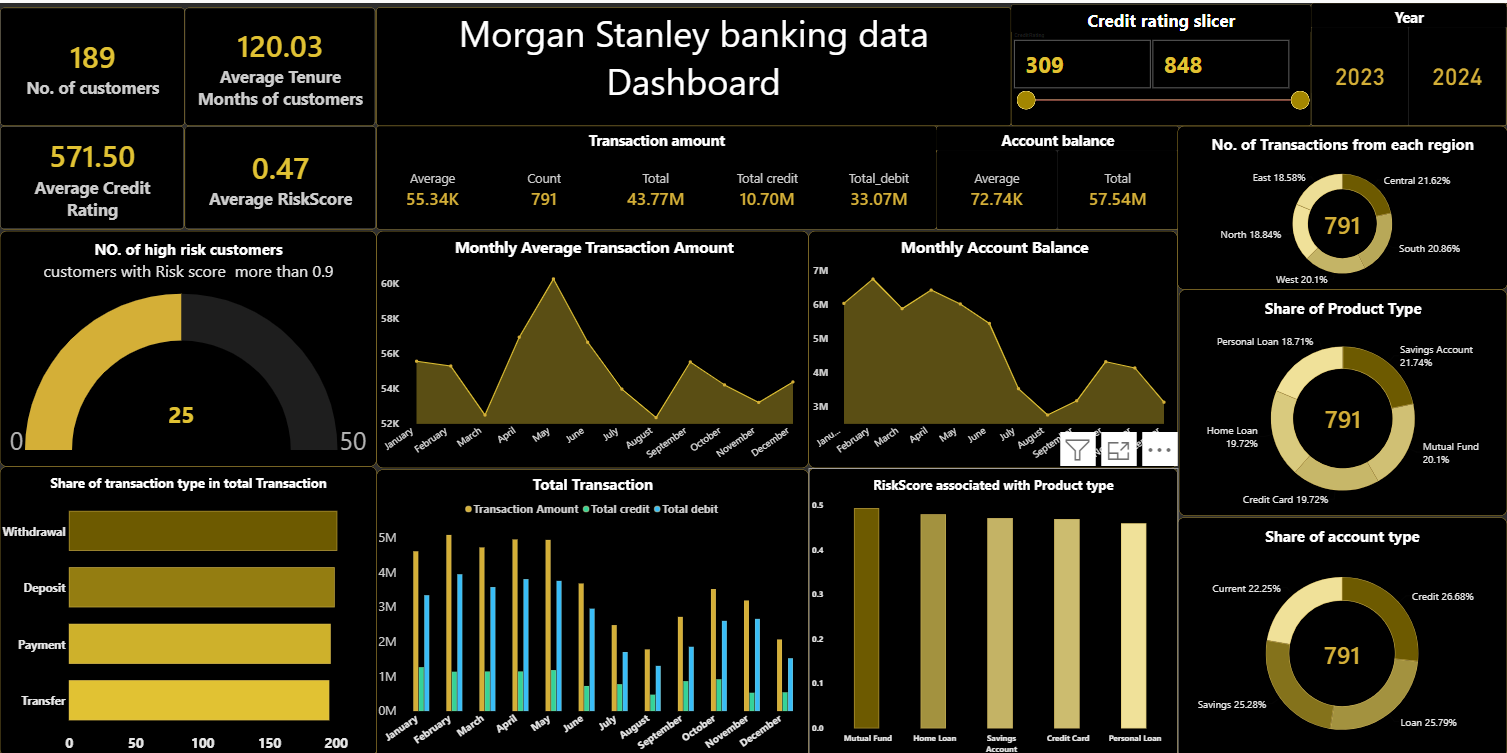

Layout of this report page (visuals, bound fields, positions):
{"tool":"powerbi","page":{"name":"Page 1","canvas":[4000,2000],"ordinal":0},"visuals":[{"type":"stackedAreaChart","title":"Monthly Average Transaction Amount","fields":{"Category":["morgan_stanely.TransactionDate.Variation.Date Hierarchy.Month","morgan_stanely.TransactionDate.Variation.Date Hierarchy.Day"],"Y":["Avg(morgan_stanely.TransactionAmount)"]},"box":[998.7,604.8,1145.9,628.7],"z":0},{"type":"cardVisual","title":"Transaction amount","fields":{"Data":["Avg(morgan_stanely.TransactionAmount)","CountNonNull(morgan_stanely.TransactionAmount)","Sum(morgan_stanely.TransactionAmount)","calculation dump.Total credit","calculation dump.Total_debit"]},"box":[998.7,326.2,1485.9,273.8],"z":1000},{"type":"cardVisual","title":"Account balance","fields":{"Data":["Avg(morgan_stanely.AccountBalance)","Sum(morgan_stanely.AccountBalance)"]},"box":[2484.6,326.2,644.8,275.6],"z":2000},{"type":"clusteredColumnChart","title":"Total Transaction ","fields":{"Category":["morgan_stanely.TransactionDate.Variation.Date Hierarchy.Month"],"Y":["Sum(morgan_stanely.TransactionAmount)","calculation dump.Total credit","calculation dump.Total_debit"]},"box":[998.7,1236.2,1146.9,767.9],"z":3000},{"type":"donutChart","title":"Share of account type","fields":{"Category":["morgan_stanely.AccountType"],"Y":["CountNonNull(morgan_stanely.AccountType)"]},"box":[3124.8,1365.1,873.8,636.2],"z":4000},{"type":"stackedAreaChart","title":"Monthly Account Balance","fields":{"Category":["morgan_stanely.TransactionDate.Variation.Date Hierarchy.Month","morgan_stanely.TransactionDate.Variation.Date Hierarchy.Day"],"Y":["Sum(morgan_stanely.AccountBalance)"]},"box":[2144.6,604.8,978.8,628.7],"z":5000},{"type":"cardVisual","fields":{"Data":["Count(morgan_stanely.AccountID)"]},"box":[0,12.1,491.3,314.1],"z":6000},{"type":"cardVisual","fields":{"Data":["Avg(morgan_stanely.TenureMonths)"]},"box":[491.3,12.1,507.4,314.1],"z":7000},{"type":"gauge","fields":{"Y":["calculation dump.high risk customers"]},"box":[0,604.8,998.7,624.7],"z":8000},{"type":"cardVisual","fields":{"Data":["Avg(morgan_stanely.RiskScore)"]},"box":[489.4,326.3,509.3,274.5],"z":9000},{"type":"cardVisual","fields":{"Data":["Avg(morgan_stanely.CreditRating)"]},"box":[0,326.3,489.4,274.5],"z":10000},{"type":"columnChart","title":" RiskScore associated with Product type","fields":{"Category":["morgan_stanely.Product"],"Y":["Avg(morgan_stanely.RiskScore)"]},"box":[2146.3,1232.2,979.5,767.9],"z":11000},{"type":"textbox","box":[998.7,12.1,1683.2,314.1],"z":12000},{"type":"donutChart","title":"Share of Product Type","fields":{"Category":["morgan_stanely.Product"],"Y":["CountNonNull(morgan_stanely.Product)"]},"box":[3128.9,761.1,869.8,600],"z":13000},{"type":"donutChart","title":"No. of Transactions from each region","fields":{"Category":["morgan_stanely.Region"],"Y":["CountNonNull(morgan_stanely.TransactionAmount)"]},"box":[3123.4,326.3,875.3,433.7],"z":14000},{"type":"advancedSlicerVisual","fields":{"Values":["morgan_stanely.TransactionDate.Variation.Date Hierarchy.Year"]},"box":[3479.2,0,519.5,326.2],"z":15000},{"type":"clusteredBarChart","title":"Share of transaction type in total Transaction","fields":{"Category":["morgan_stanely.TransactionType"],"Y":["CountNonNull(morgan_stanely.TransactionAmount)"]},"box":[0,1230.5,999.2,767.9],"z":16000},{"type":"slicer","title":"Credit rating slicer","fields":{"Values":["morgan_stanely.CreditRating"]},"box":[2681.8,4,795.8,322.3],"z":17000}]}

Visuals, with their boxes in screenshot pixels (x1, y1, x2, y2), scaled from the page's 4000x2000 canvas onto the 1507x753 screenshot:
"Monthly Average Transaction Amount" stackedAreaChart: select_region(376, 228, 808, 464)
"Transaction amount" cardVisual: select_region(376, 123, 936, 226)
"Account balance" cardVisual: select_region(936, 123, 1179, 227)
"Total Transaction " clusteredColumnChart: select_region(376, 465, 808, 752)
"Share of account type" donutChart: select_region(1177, 514, 1506, 752)
"Monthly Account Balance" stackedAreaChart: select_region(808, 228, 1177, 464)
cardVisual - Count(morgan_stanely.AccountID): select_region(0, 5, 185, 123)
cardVisual - Avg(morgan_stanely.TenureMonths): select_region(185, 5, 376, 123)
gauge - calculation dump.high risk customers: select_region(0, 228, 376, 463)
cardVisual - Avg(morgan_stanely.RiskScore): select_region(184, 123, 376, 226)
cardVisual - Avg(morgan_stanely.CreditRating): select_region(0, 123, 184, 226)
" RiskScore associated with Product type" columnChart: select_region(809, 464, 1178, 752)
textbox: select_region(376, 5, 1010, 123)
"Share of Product Type" donutChart: select_region(1179, 287, 1506, 512)
"No. of Transactions from each region" donutChart: select_region(1177, 123, 1506, 286)
advancedSlicerVisual - morgan_stanely.TransactionDate.Variation.Date Hierarchy.Year: select_region(1311, 0, 1506, 123)
"Share of transaction type in total Transaction" clusteredBarChart: select_region(0, 463, 376, 752)
"Credit rating slicer" slicer: select_region(1010, 2, 1310, 123)
